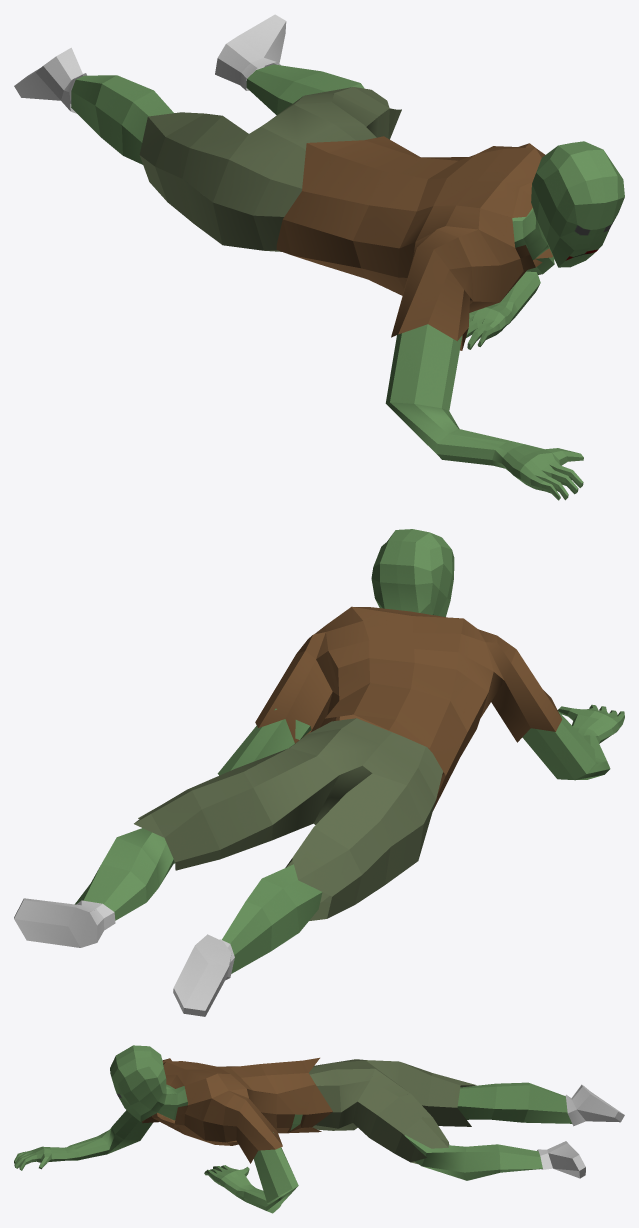
File: ZombieCrawl(90).obj
3 views of the same model, one above another, from view 1: azimuth 30°, elevation 25°; view 2: azimuth 150°, elevation 25°; view 3: azimuth 270°, elevation 25° (orthographic). The views are drawn at different scales.
Visible parts, largest first — view 1: Object001; view 2: Object001; view 3: Object001.
Boxes of the visible parts, x1,y1,x2,y2 form: Object001: [14, 14, 624, 500]; Object001: [14, 529, 624, 1016]; Object001: [14, 1045, 624, 1213].
Bounding box in the file's own units: 22.79 × 19.37 × 70.33.
